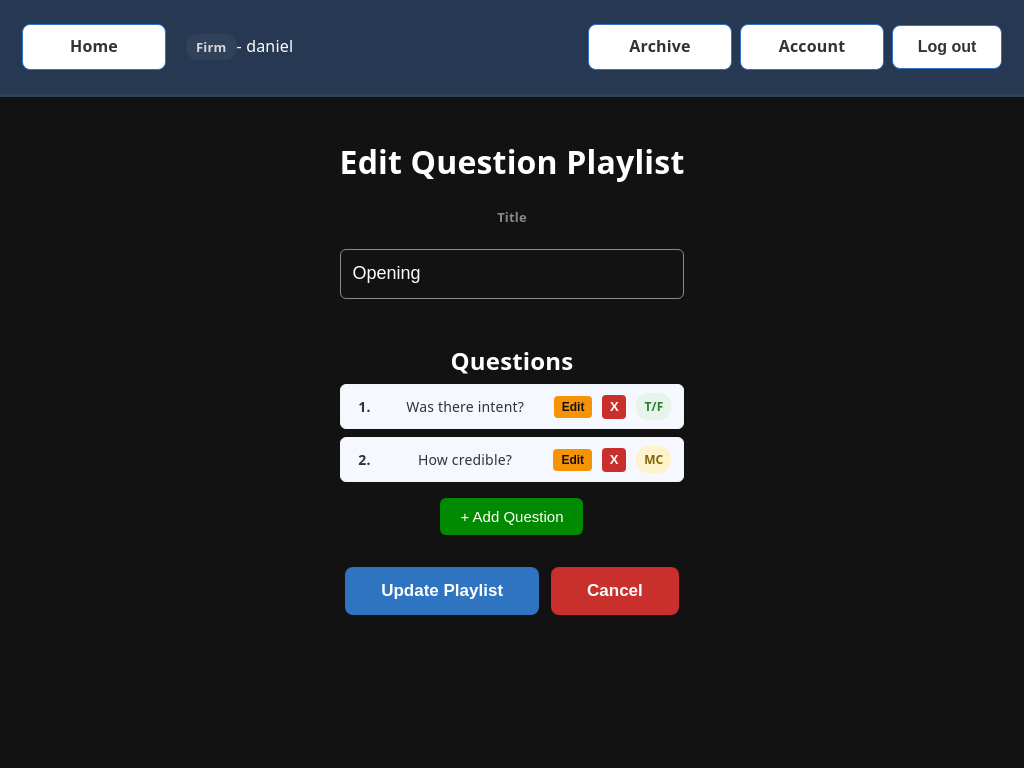
Test case: EditPlaylistScreen saving (spec 022) › keeps the edits and shows the server message on a conflict
This screenshot has width=1024, height=768.
expect the heading "Edit Question Playlist" is shown: met, box left=340, top=150, right=684, bottom=174
Replace the text in the field labelled "Title" with "Taken": (512, 274) left=340, top=249, right=684, bottom=299
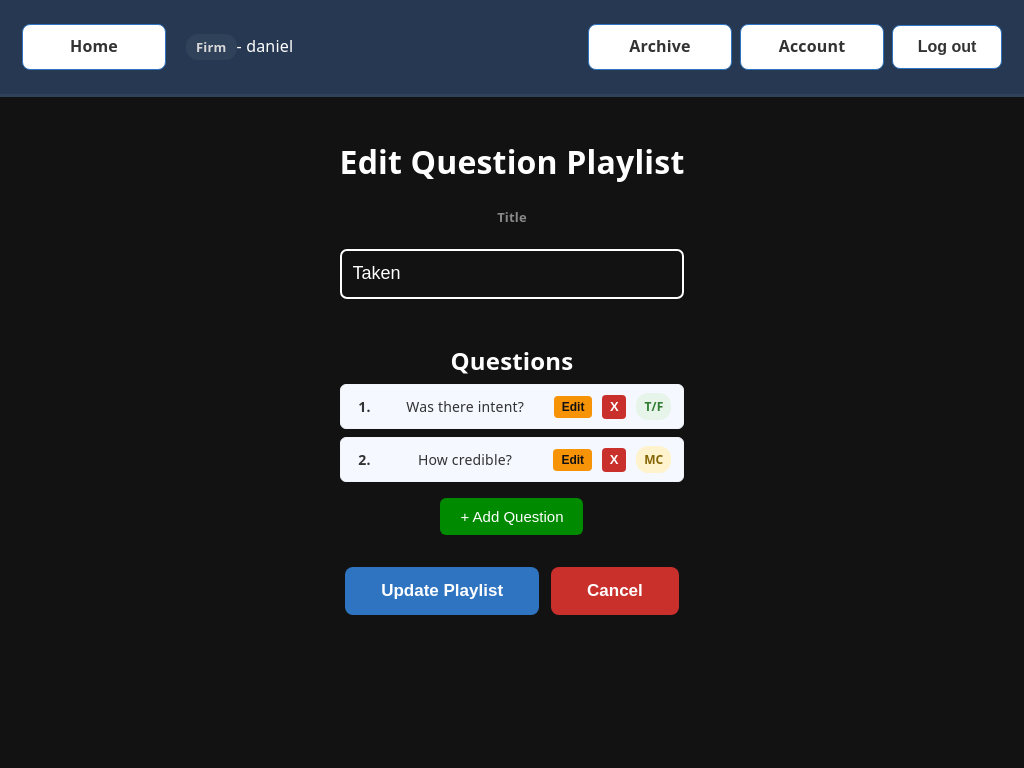
Click the button "Update Playlist": (442, 592) left=345, top=568, right=539, bottom=616
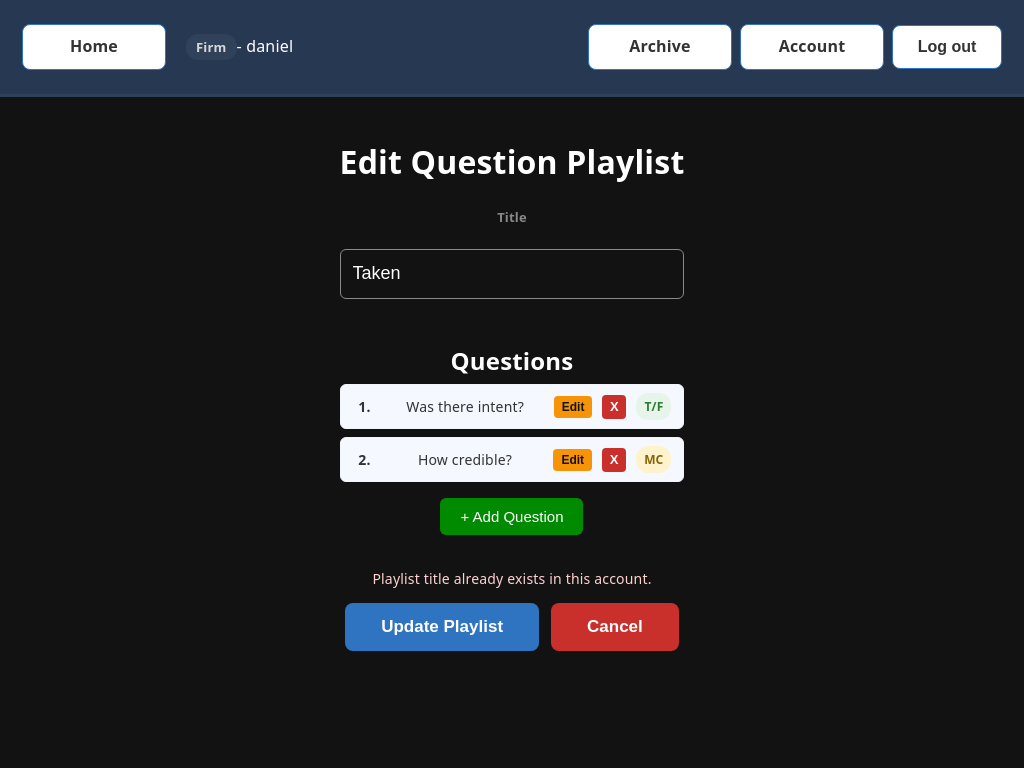
expect the button "Update Playlist" is enabled: met, box left=345, top=603, right=539, bottom=651
expect the message reads "Playlist title already exists in this account.": met, box left=372, top=570, right=652, bottom=588
